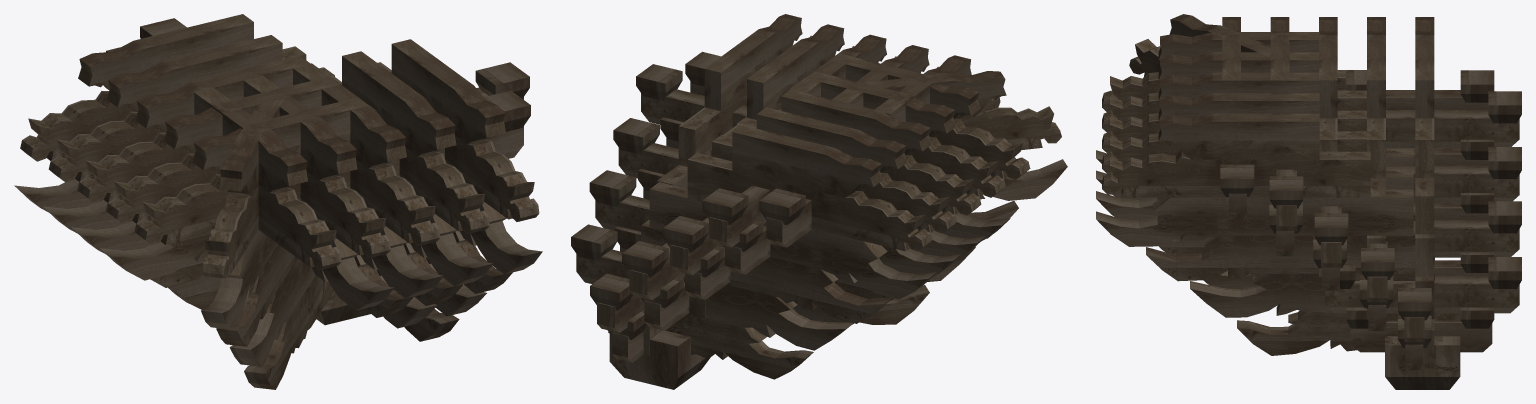
File: SM_Ssang_Dae_Gongpo_B.fbx
3 views of the same model, side by side, from view 1: azimuth 30°, elevation 25°; view 2: azimuth 150°, elevation 25°; view 3: azimuth 270°, elevation 25° (orthographic). The views are drawn at different scales.
Visible parts, largest first — view 1: SM_Ssang_Dae_Gongpo_B; view 2: SM_Ssang_Dae_Gongpo_B; view 3: SM_Ssang_Dae_Gongpo_B.
Boxes of the visible parts, bbox=[...] form: SM_Ssang_Dae_Gongpo_B: bbox=[14, 14, 542, 389]; SM_Ssang_Dae_Gongpo_B: bbox=[571, 14, 1067, 389]; SM_Ssang_Dae_Gongpo_B: bbox=[1096, 14, 1521, 389].
Bounding box in the file's own units: 218 × 154 × 227.
